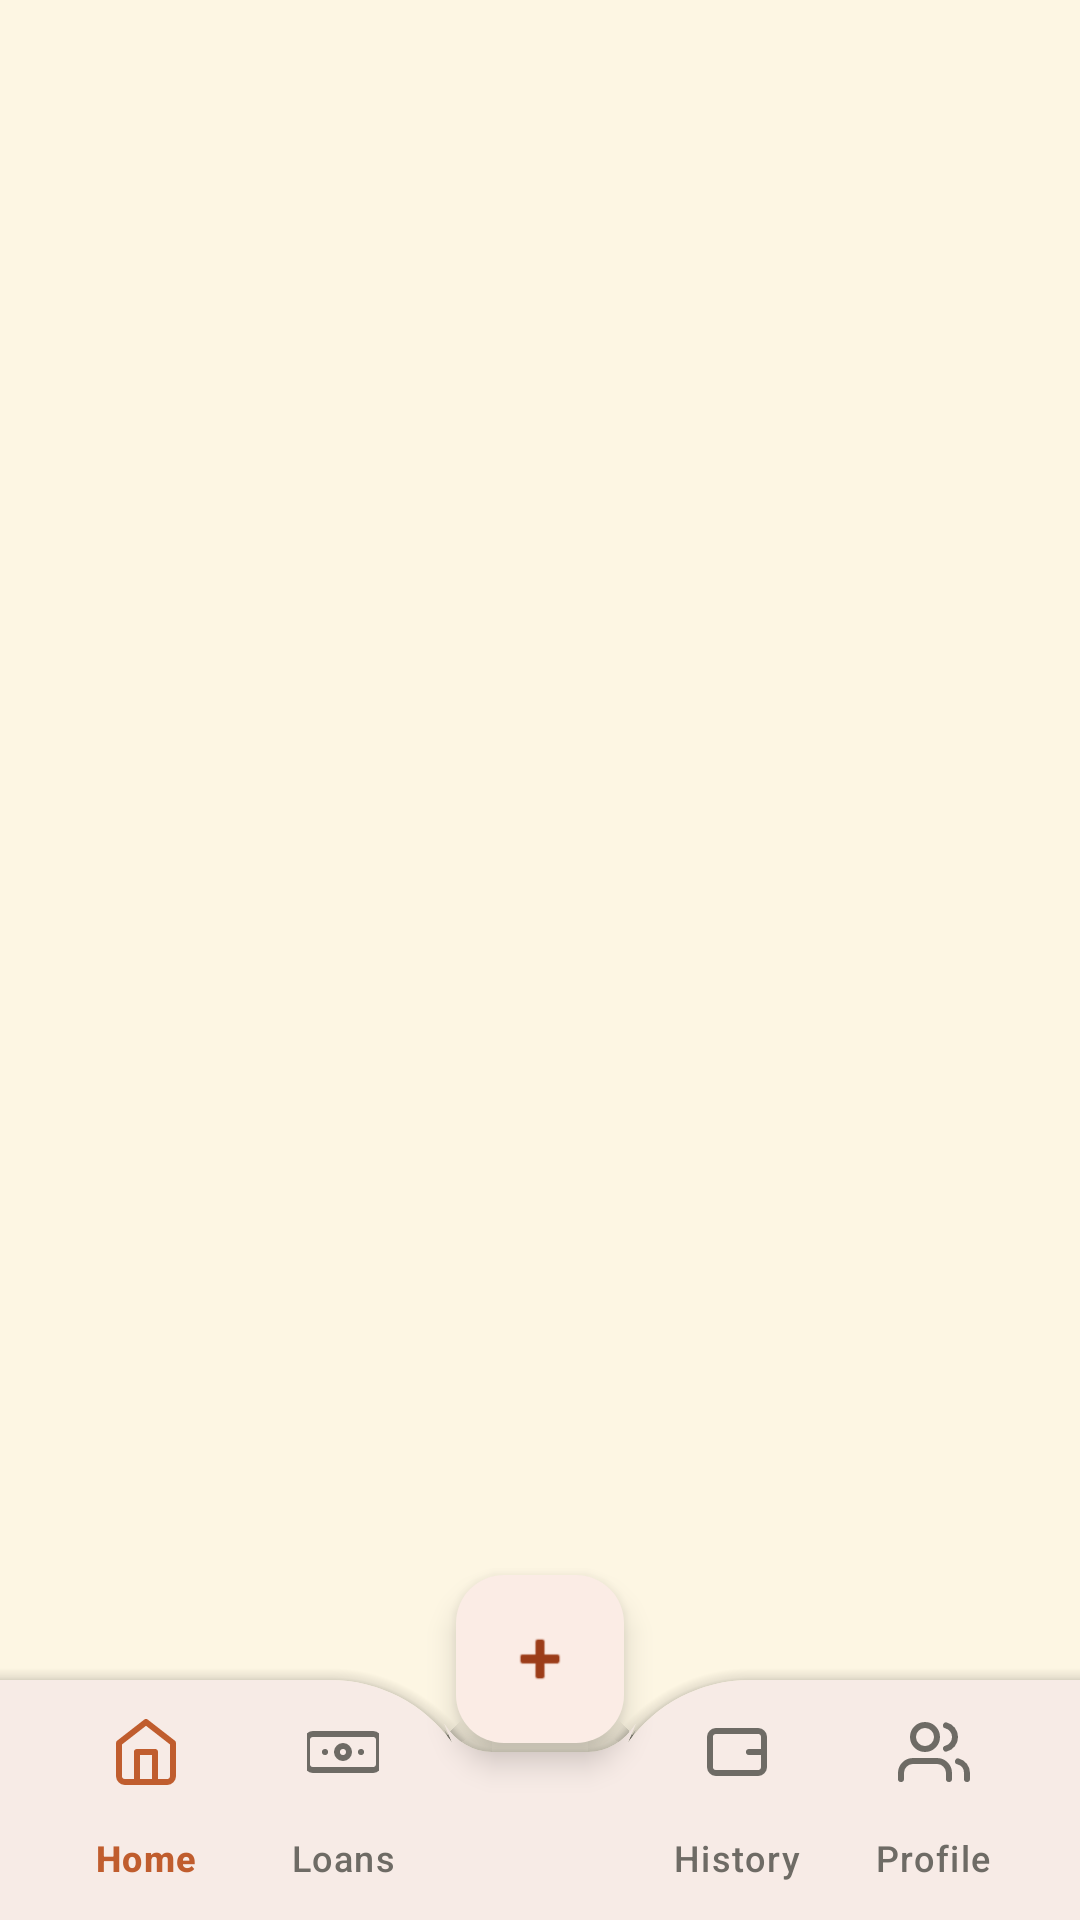

Screen size 1080 × 1920. Icon name, then its box in pixels as bbox=(x1, y1, x2, y2):
add: bbox=(456, 1639, 624, 1762)
